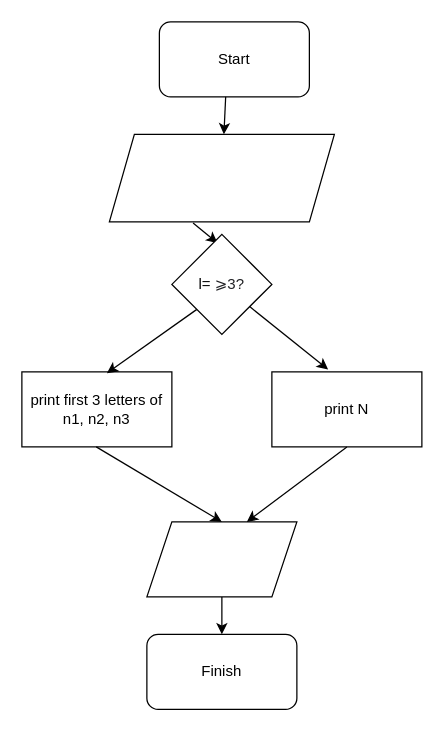
The diagram is 444 pixels wide and 731 high, and some of its shapes have lost their labels. Each missing label, with the centre of its shape:
Ввод N (n1 (Russia), n2 (Denmark), n3 (Kazan) ) q=3 l= ⩾6: [221,177]
Вывод N: [221,559]
